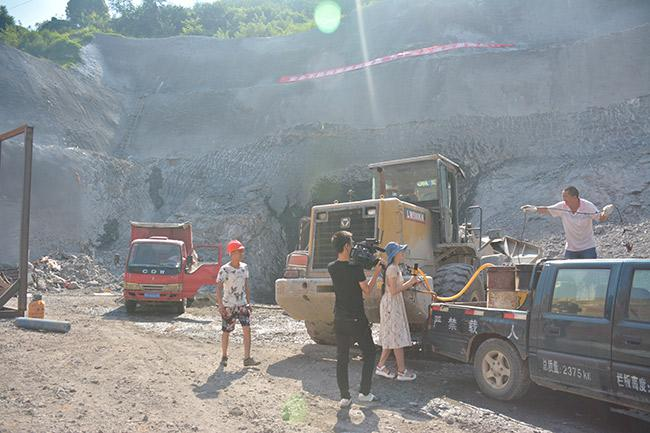helmet: (226, 239, 247, 256)
